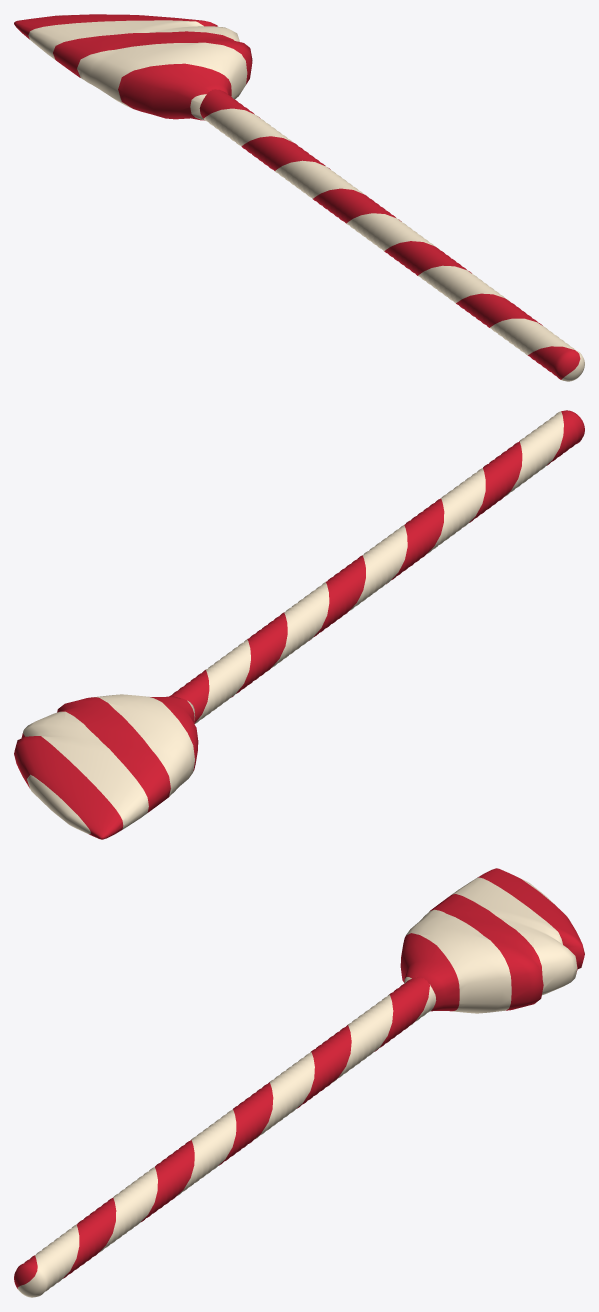
Rendered from LanzaCaramelo.fbx.
The picture shows the model from 3 angles, top to bottom: view 1: azimuth 30°, elevation 25°; view 2: azimuth 150°, elevation 25°; view 3: azimuth 330°, elevation 25°; orthographic projection. The views are drawn at different scales.
Visible parts, largest first — view 1: PuntaDeCaramelo, MangoHelicoidal; view 2: PuntaDeCaramelo, MangoHelicoidal; view 3: MangoHelicoidal, PuntaDeCaramelo.
Boxes of the visible parts, bbox=[...] form: PuntaDeCaramelo: bbox=[14, 14, 252, 120]; MangoHelicoidal: bbox=[199, 89, 584, 381]; PuntaDeCaramelo: bbox=[14, 694, 198, 839]; MangoHelicoidal: bbox=[169, 410, 584, 723]; MangoHelicoidal: bbox=[14, 977, 436, 1297]; PuntaDeCaramelo: bbox=[400, 868, 584, 1013].
Bounding box in the file's own units: 28.9 × 11 × 165.
